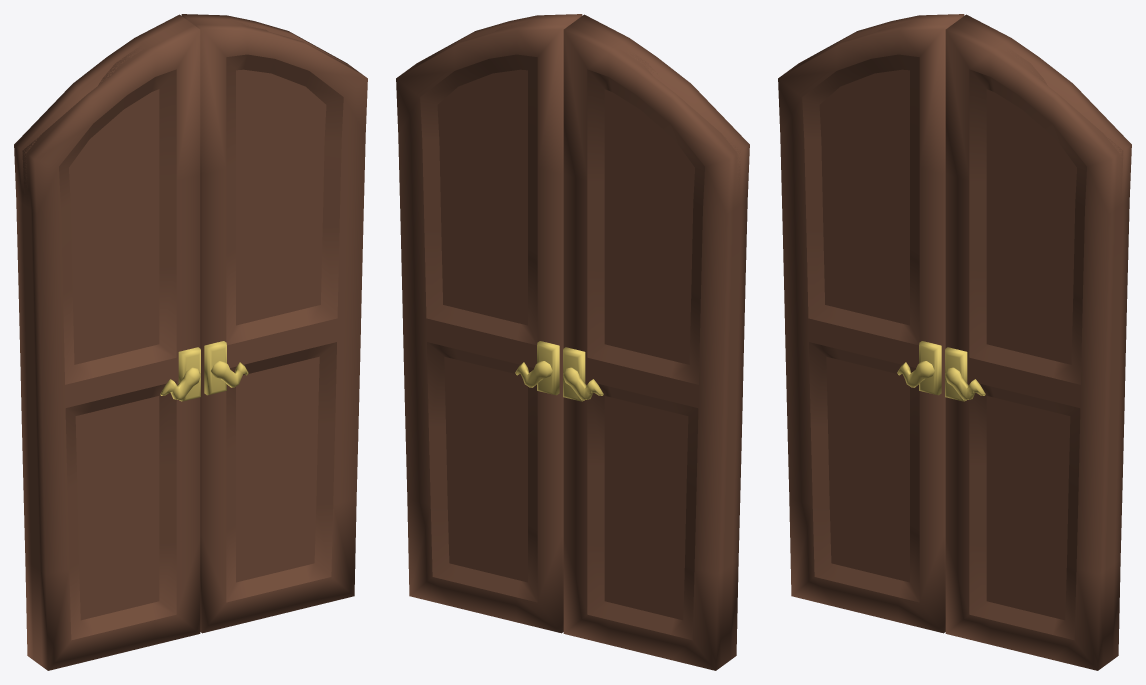
The model's file is props_hall_door 1.fbx.
3 renders of one model, left to right at view 1: azimuth 30°, elevation 25°; view 2: azimuth 150°, elevation 25°; view 3: azimuth 330°, elevation 25°, orthographic.
Visible parts, largest first — view 1: Cylinder.001, Cylinder.012; view 2: Cylinder.001, Cylinder.012; view 3: Cylinder.012, Cylinder.001.
Boxes of the visible parts, x1,y1,x2,y2 form: Cylinder.001: (14, 14, 200, 670); Cylinder.012: (181, 14, 367, 633); Cylinder.001: (563, 14, 749, 670); Cylinder.012: (396, 14, 582, 633); Cylinder.012: (945, 14, 1131, 670); Cylinder.001: (778, 14, 964, 633).
Bounding box in the file's own units: 130 × 226 × 25.72.
